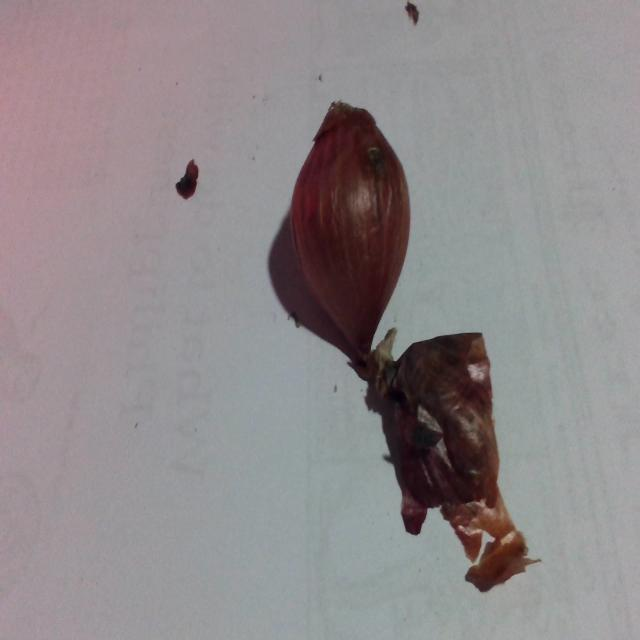onion: (280, 79, 419, 357)
